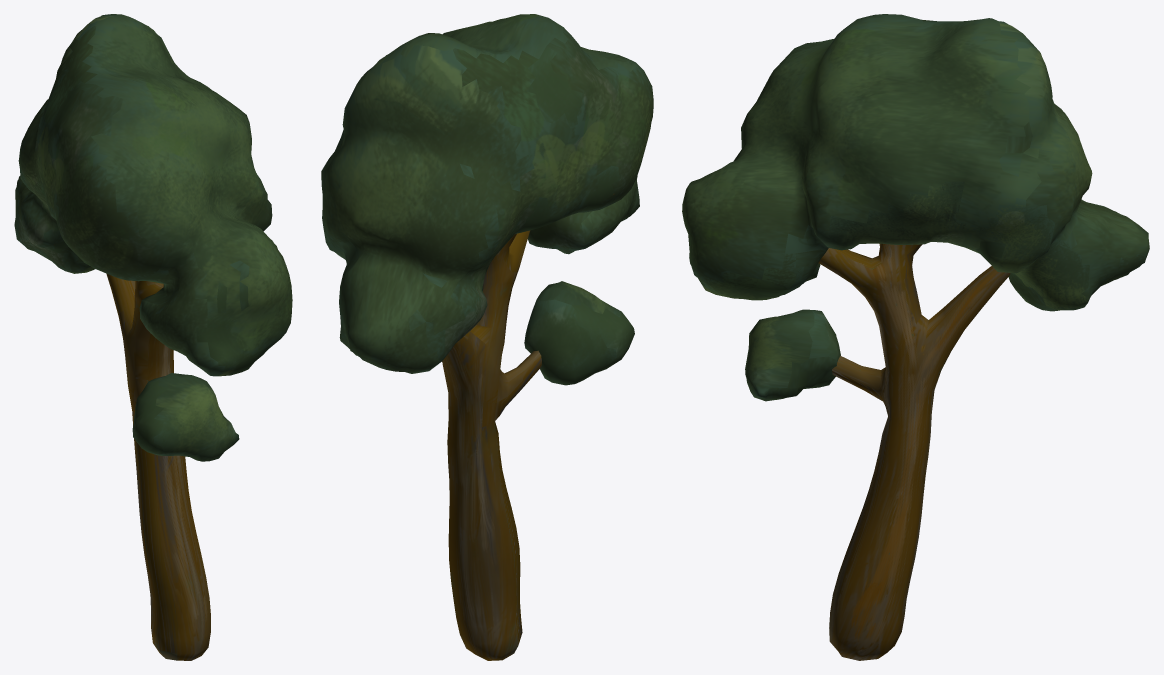
The model's file is tree.fbx.
3 views of the same model, side by side, from view 1: azimuth 30°, elevation 25°; view 2: azimuth 150°, elevation 25°; view 3: azimuth 270°, elevation 25° (orthographic). The views are drawn at different scales.
Visible parts, largest first — view 1: Tree; view 2: Tree; view 3: Tree.
Part boxes in pixels (x1,y1,x2,y2): Tree: (14, 14, 292, 660); Tree: (321, 14, 653, 660); Tree: (682, 14, 1149, 660).
Size of the model in its own units: 229 by 638 by 430.
